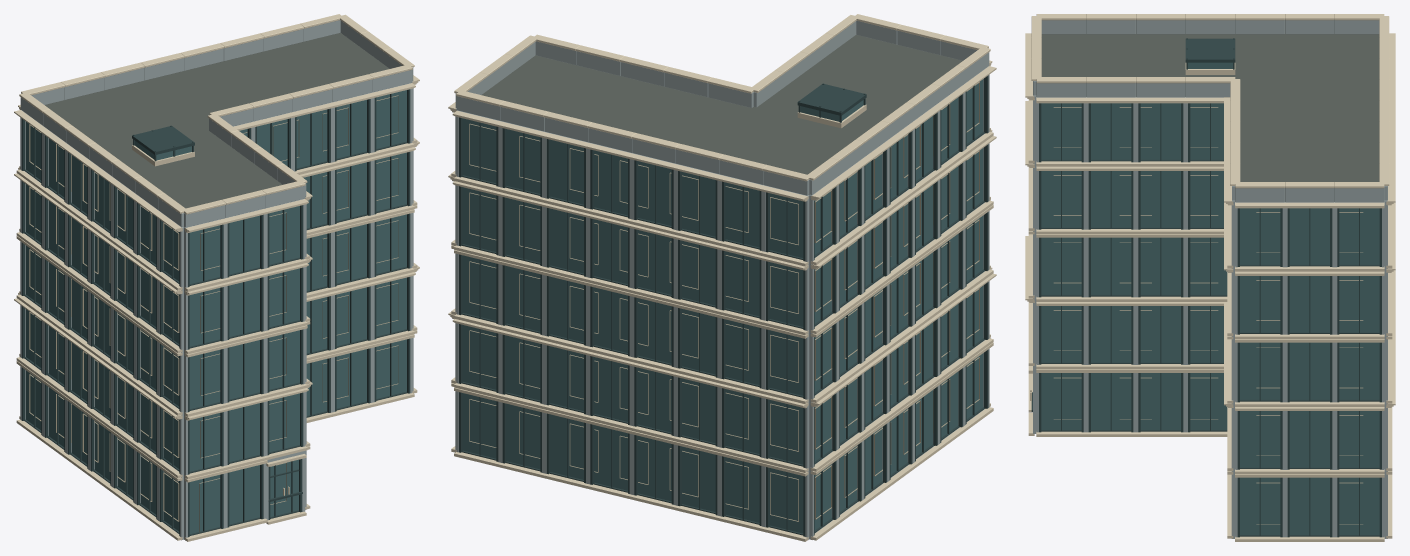
Rendered from l-office.glb.
The picture shows the model from 3 angles, left to right: view 1: azimuth 30°, elevation 25°; view 2: azimuth 150°, elevation 25°; view 3: azimuth 270°, elevation 25°; orthographic projection. The views are drawn at different scales.
Visible parts, largest first — view 1: Roof main.016, Roof wing.006, Foundation.034, main/north/0/1667/glass.005, main/north/2/1667/glass.004, wing/north/4/5000/glass, main/north/1/1667/glass.005, main/north/4/1667/glass, main/north/3/1667/glass, main/north/0/5000/glass.007, main/north/2/5000/glass.005, main/north/2/8333/glass.004 (+99 smaller); view 2: Roof main.016, Roof wing.006, Foundation.034, main/south/0/1667/glass.006, main/south/2/1667/glass.005, wing/south/2/9000/glass.001, wing/south/0/9000/glass.001, wing/south/2/7000/glass.001, main/south/2/5000/glass.005, main/south/0/5000/glass.009, wing/south/0/7000/glass.001, wing/south/1/9000/glass.001 (+100 smaller); view 3: Roof main.016, Roof wing.006, main/east/2/6429/glass.002, main/east/2/7857/glass.002, wing/east/0/5000/glass.006, wing/east/0/8333/glass.006, wing/east/2/5000/glass.002, wing/east/2/8333/glass.002, main/east/0/6429/glass.001, main/east/0/7857/glass.001, wing/east/4/5000/glass, main/east/4/6429/glass (+85 smaller).
Boxes of the visible parts, box(x1,y1,x2,y2) form: Roof main.016: box(45, 81, 282, 226); Roof wing.006: box(144, 33, 389, 127); Foundation.034: box(29, 95, 398, 532); main/north/0/1667/glass.005: box(189, 475, 220, 533); main/north/2/1667/glass.004: box(189, 350, 220, 408); wing/north/4/5000/glass: box(296, 109, 327, 168); main/north/1/1667/glass.005: box(189, 413, 220, 471); main/north/4/1667/glass: box(189, 225, 220, 283); main/north/3/1667/glass: box(189, 288, 220, 346); main/north/0/5000/glass.007: box(229, 465, 259, 524); main/north/2/5000/glass.005: box(229, 340, 259, 399); main/north/2/8333/glass.004: box(269, 330, 299, 389); Roof main.016: box(698, 35, 962, 194); Roof wing.006: box(481, 55, 752, 147); Foundation.034: box(469, 82, 979, 521); main/south/0/1667/glass.006: box(769, 468, 803, 533); main/south/2/1667/glass.005: box(769, 330, 803, 395); wing/south/2/9000/glass.001: box(462, 255, 496, 320); wing/south/0/9000/glass.001: box(462, 393, 496, 458); wing/south/2/7000/glass.001: box(506, 266, 540, 331); main/south/2/5000/glass.005: box(725, 319, 759, 384); main/south/0/5000/glass.009: box(725, 457, 759, 522); wing/south/0/7000/glass.001: box(506, 403, 540, 469); wing/south/1/9000/glass.001: box(462, 325, 496, 389); Roof main.016: box(1041, 34, 1379, 95); Roof wing.006: box(1240, 96, 1379, 181); main/east/2/6429/glass.002: box(1140, 237, 1180, 294); main/east/2/7857/glass.002: box(1091, 237, 1131, 294); wing/east/0/5000/glass.006: box(1289, 477, 1329, 534); wing/east/0/8333/glass.006: box(1240, 477, 1280, 534); wing/east/2/5000/glass.002: box(1289, 342, 1329, 399); wing/east/2/8333/glass.002: box(1240, 342, 1280, 399); main/east/0/6429/glass.001: box(1140, 373, 1180, 429); main/east/0/7857/glass.001: box(1091, 373, 1131, 429); wing/east/4/5000/glass: box(1289, 208, 1329, 264); main/east/4/6429/glass: box(1140, 103, 1180, 159).
Bounding box in the file's own units: 16.92 × 15.87 × 14.92.
